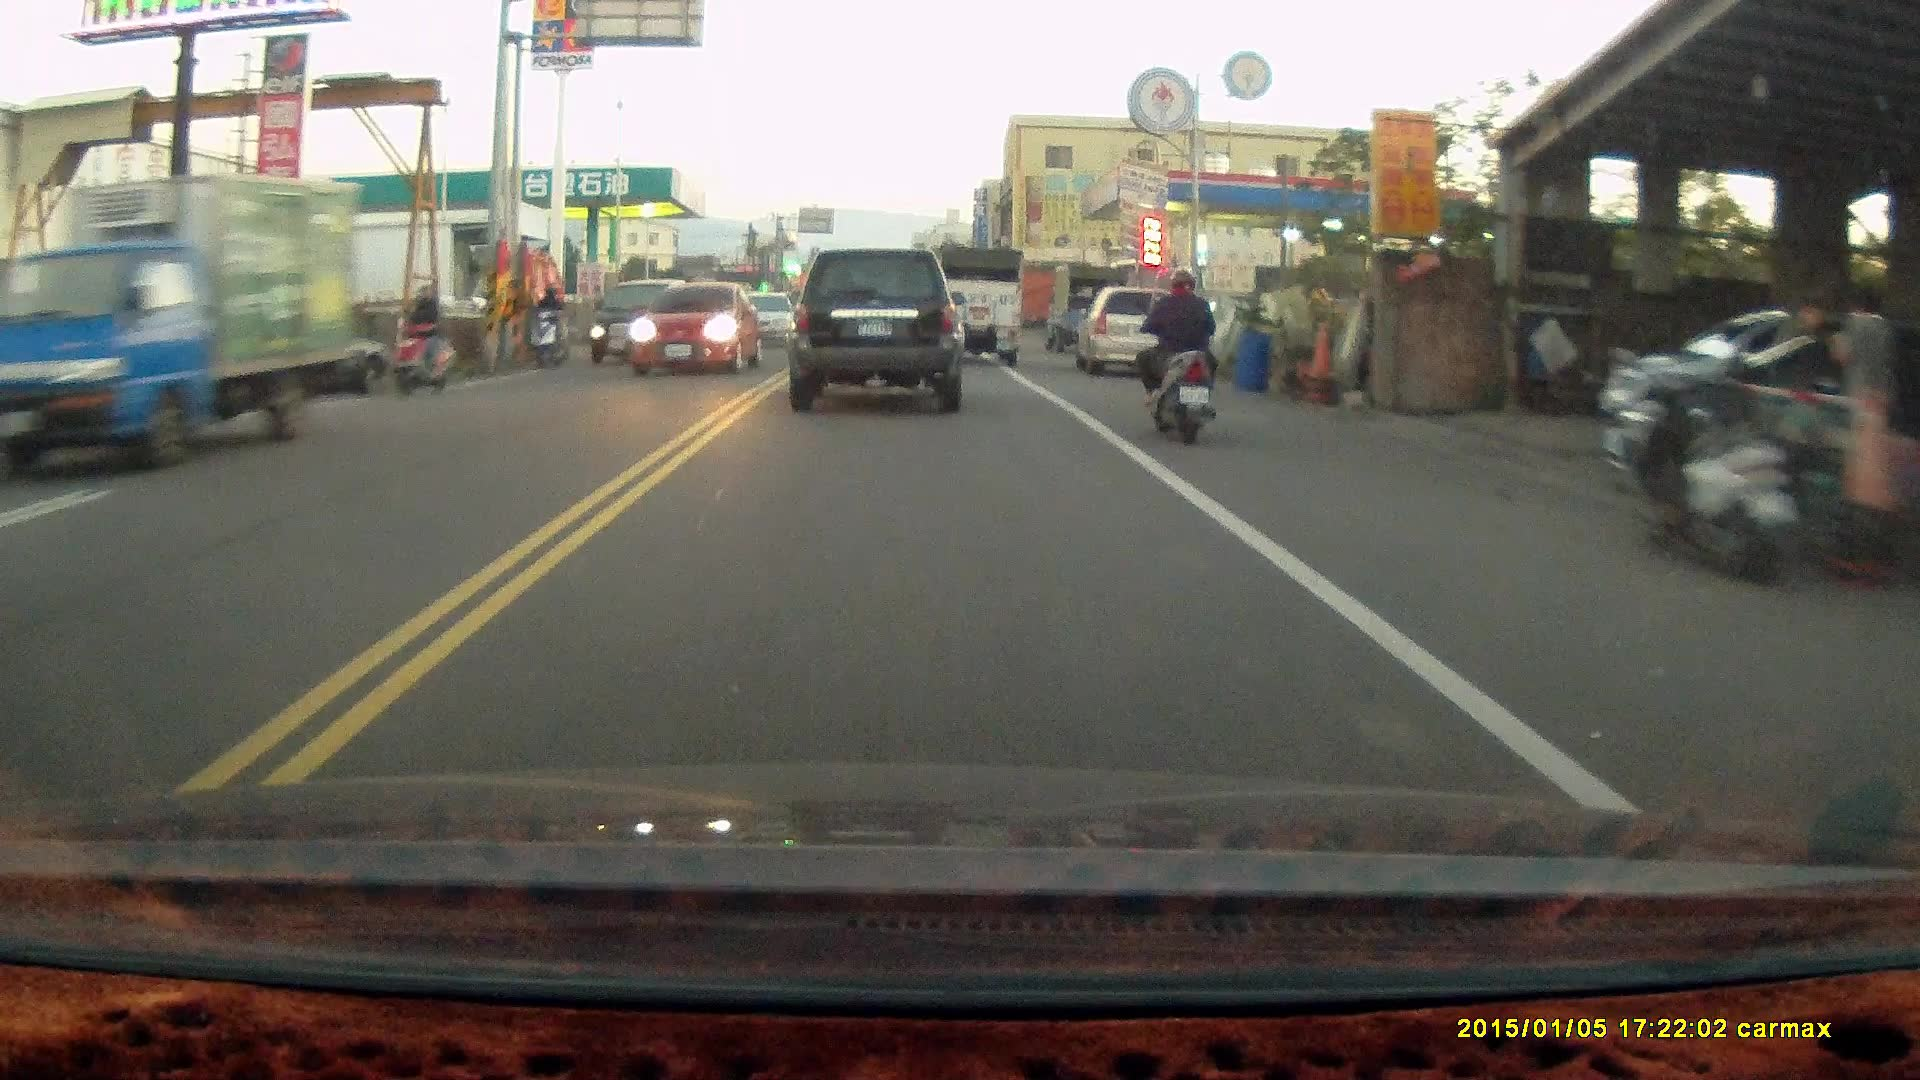pedestrian: (1830, 288, 1888, 449)
rider: (1136, 267, 1229, 446), (382, 284, 461, 397), (531, 285, 571, 368)
vehicle: (12, 165, 358, 469), (784, 246, 966, 414), (636, 284, 770, 382), (932, 244, 1024, 366), (1078, 285, 1188, 377), (589, 277, 692, 364)
